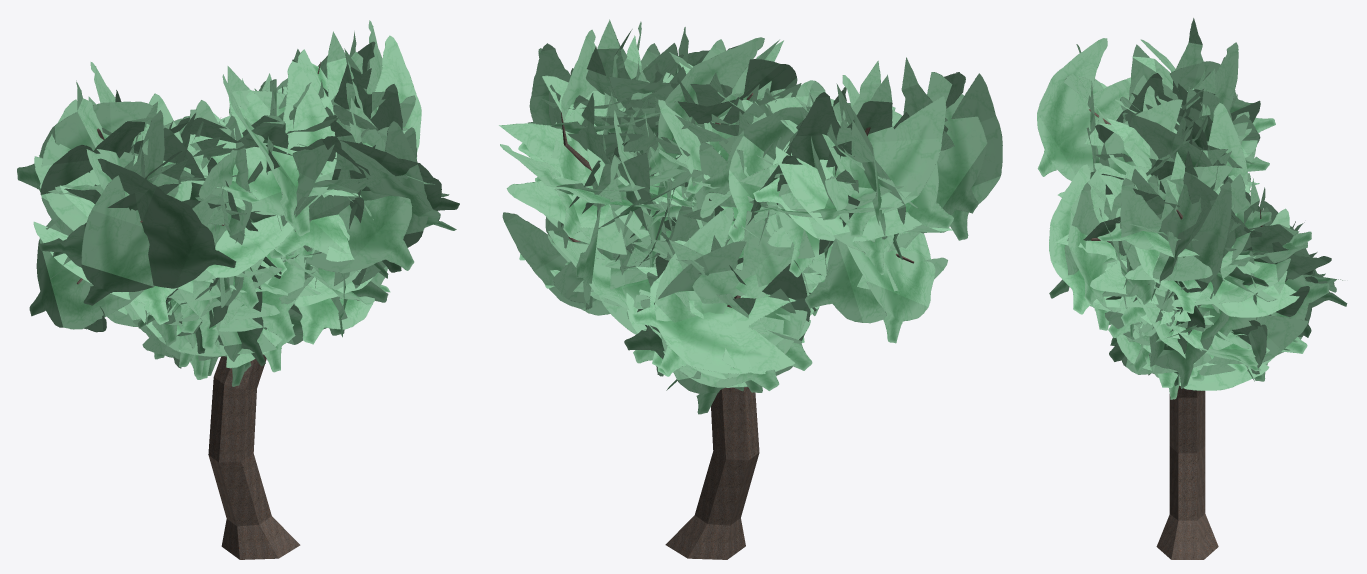
The model's file is Arbol.fbx.
3 renders of one model, left to right at view 1: azimuth 30°, elevation 25°; view 2: azimuth 150°, elevation 25°; view 3: azimuth 270°, elevation 25°, orthographic. The views are drawn at different scales.
Parts seen in each view (by area): view 1: Arbol; view 2: Arbol; view 3: Arbol.
Boxes of the visible parts, x1,y1,x2,y2 form: Arbol: [17, 20, 459, 559]; Arbol: [499, 19, 1002, 559]; Arbol: [1037, 18, 1347, 559].
Bounding box in the file's own units: 2550 × 3023 × 1917.
